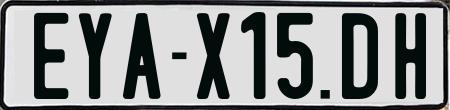1: (240, 11, 269, 101)
5: (276, 10, 318, 102)
A: (123, 13, 163, 101)
D: (342, 10, 384, 96)
E: (33, 11, 71, 103)
H: (392, 10, 429, 97)
X: (197, 11, 235, 98)
Y: (78, 10, 117, 99)
